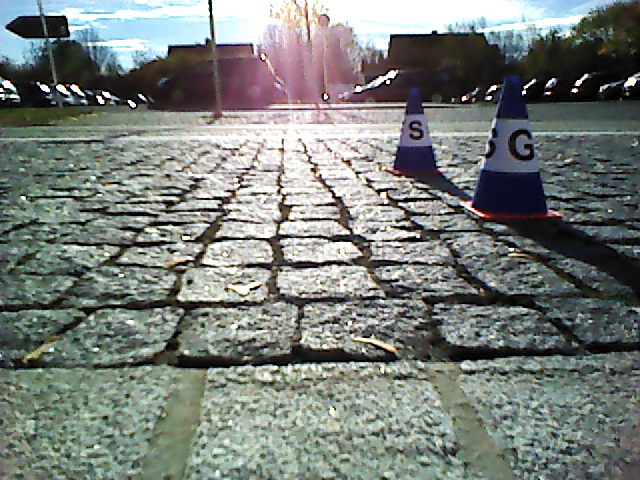bluecone: (472, 76, 546, 210), (394, 88, 432, 170)
